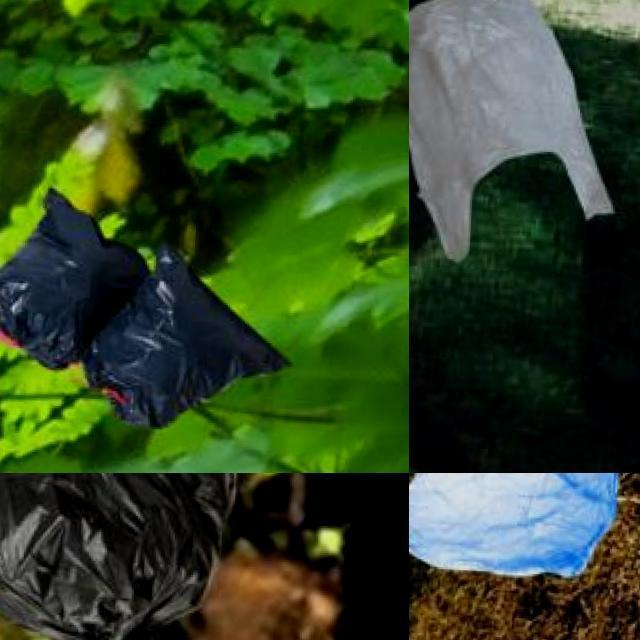waste: (409, 0, 631, 262), (0, 473, 250, 640), (94, 246, 302, 432), (0, 187, 150, 377), (409, 473, 630, 590)
